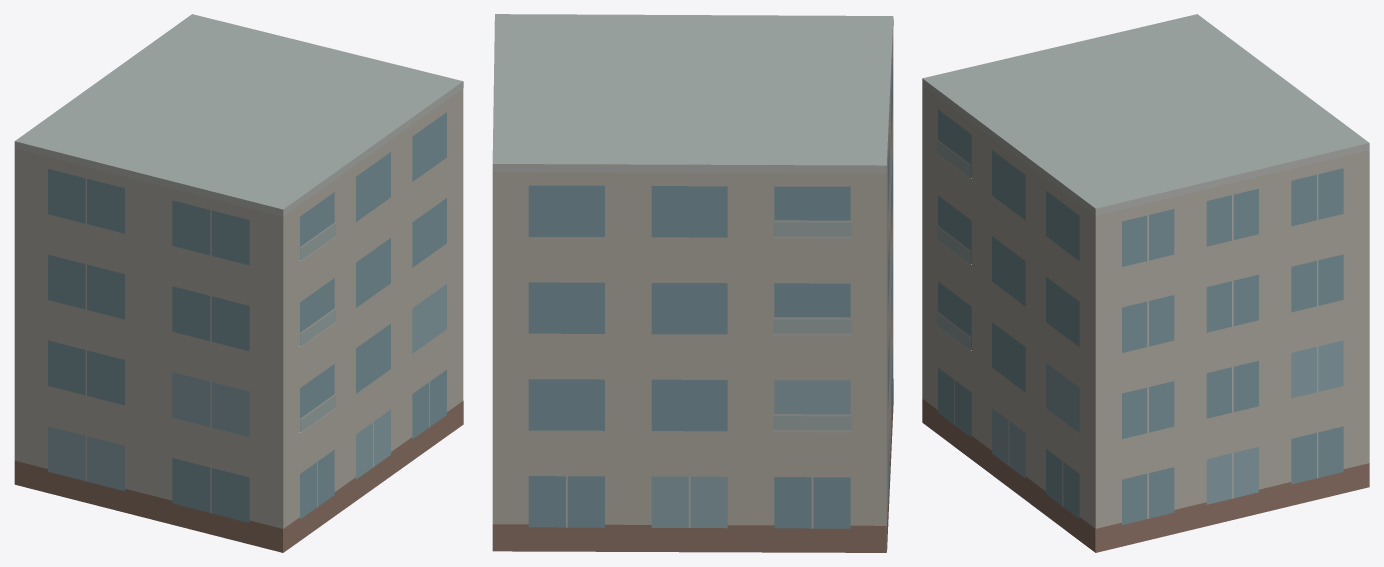
Rendered from survey-upis-32529946.glb.
3 views of the same model, side by side, from view 1: azimuth 30°, elevation 25°; view 2: azimuth 150°, elevation 25°; view 3: azimuth 270°, elevation 25° (orthographic). The views are drawn at different scales.
Visible parts, largest first — view 1: survey-upis-32529946.tmp; view 2: survey-upis-32529946.tmp; view 3: survey-upis-32529946.tmp.
Part boxes in pixels (left/top/right/bottom): survey-upis-32529946.tmp: left=14, top=14, right=463, bottom=552; survey-upis-32529946.tmp: left=492, top=14, right=893, bottom=552; survey-upis-32529946.tmp: left=922, top=14, right=1369, bottom=552.
Size of the model in its own units: 14.2 by 11.7 by 13.79.
